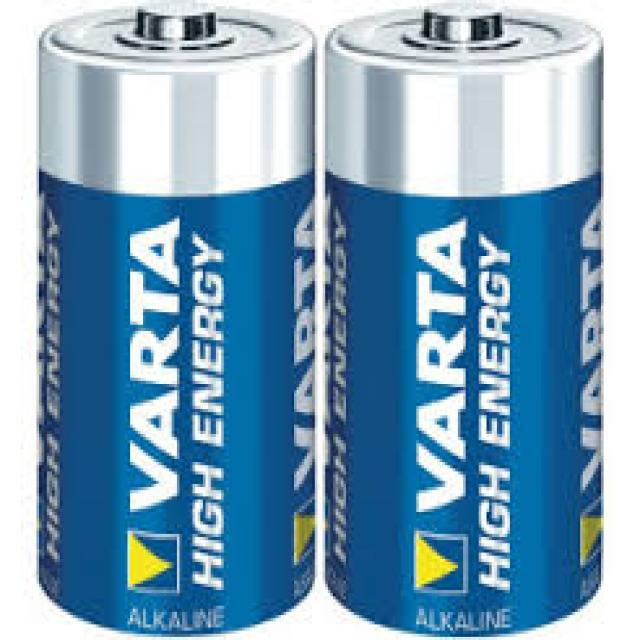battery: (31, 0, 315, 638), (326, 0, 602, 635)
